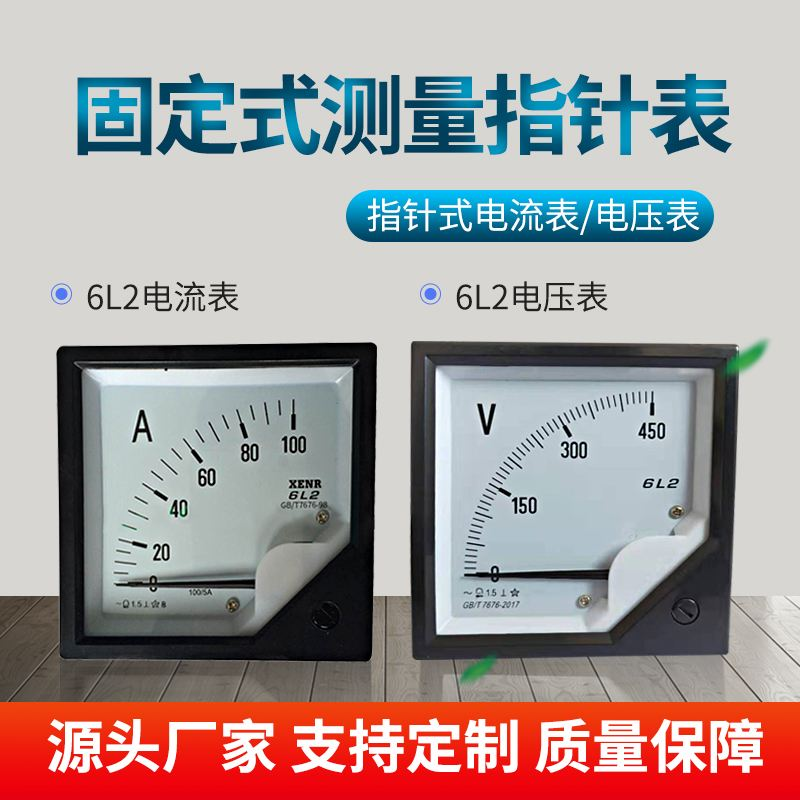pointer: (432, 360, 709, 640), (80, 362, 354, 637)
